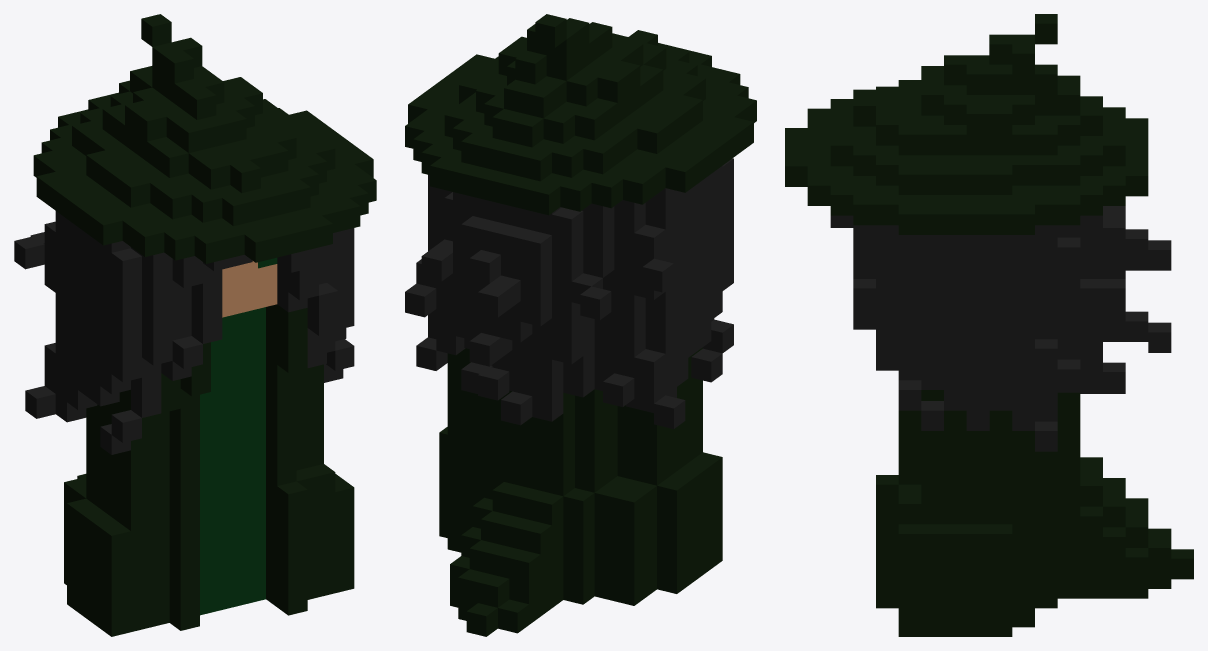
The model's file is Bruxa 03 - Andando-00.obj.
3 views of the same model, side by side, from view 1: azimuth 30°, elevation 25°; view 2: azimuth 150°, elevation 25°; view 3: azimuth 270°, elevation 25° (orthographic). The views are drawn at different scales.
Size of the model in its own units: 14 by 27 by 18.
1 material, 1 textured.
